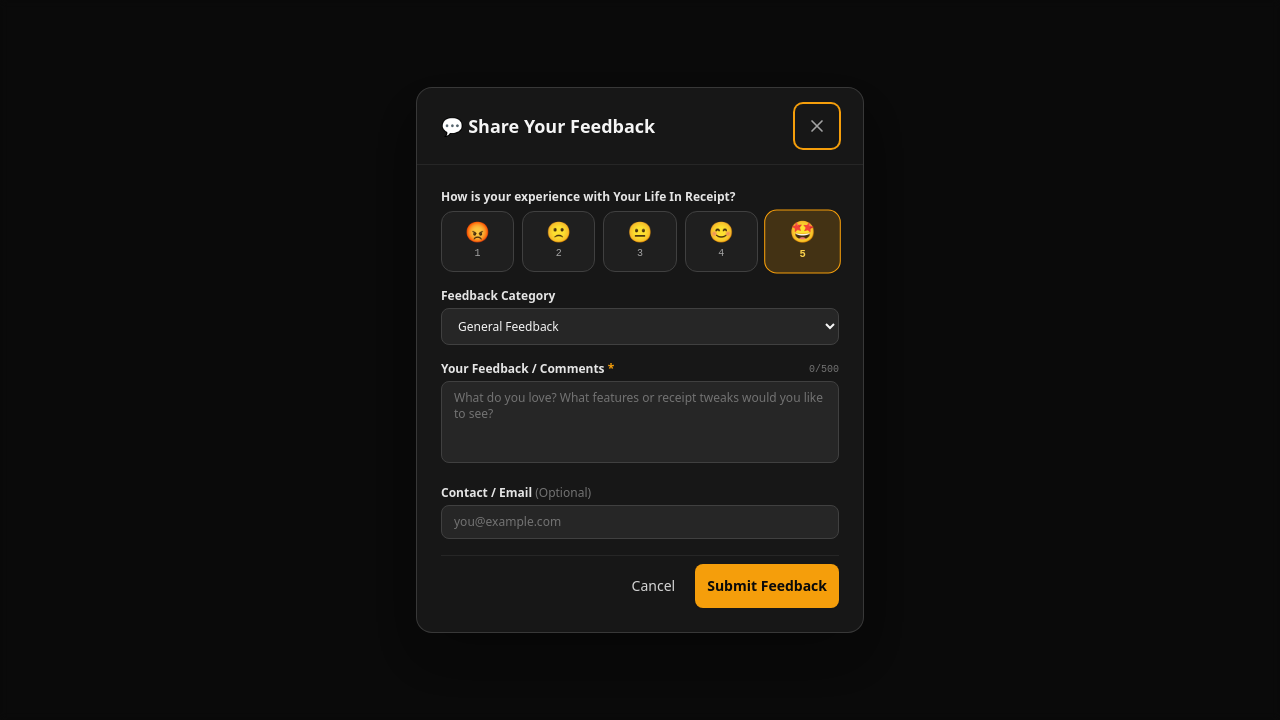
it: FeedbackModal Component & Storage › rejects submission with less than 5 characters and displays error
Replace the text in the text box labelled "Your Feedback / Comments *" with "Hi". click: coordinates (640, 422)
box: [441,381,839,463]
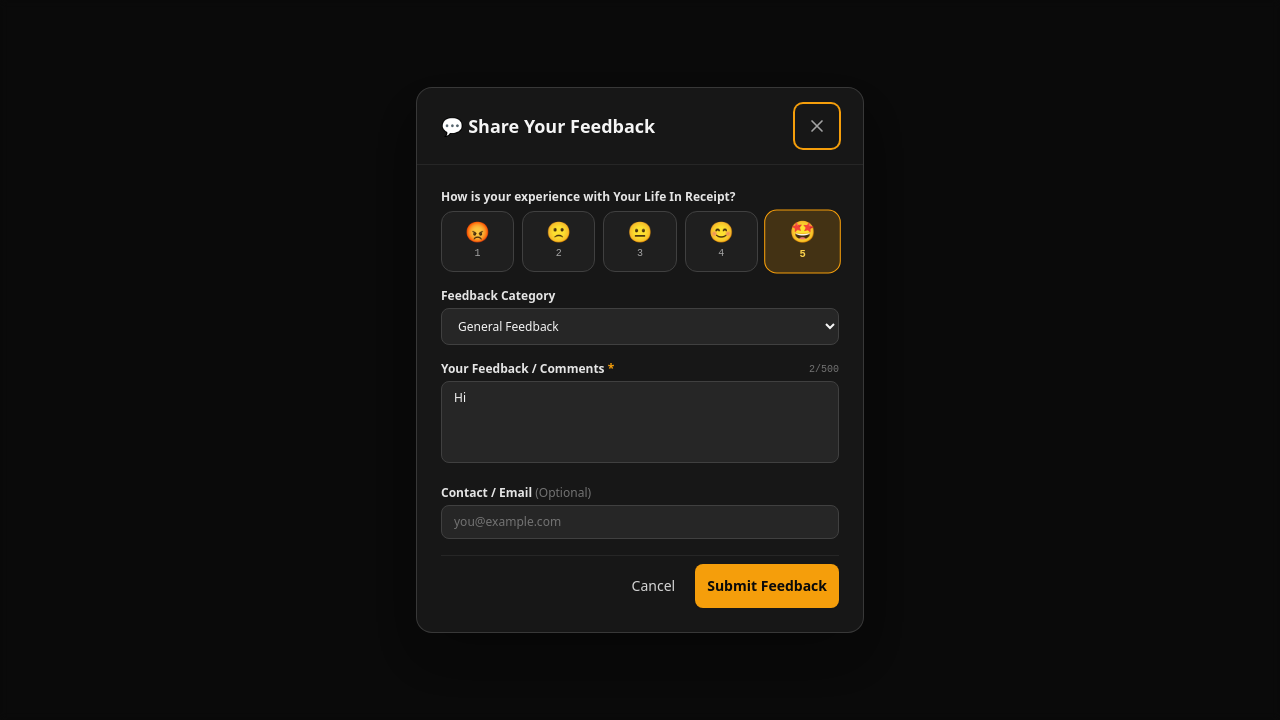
Click the button "Submit Feedback". click: coordinates (767, 586)
box: [695,564,839,608]
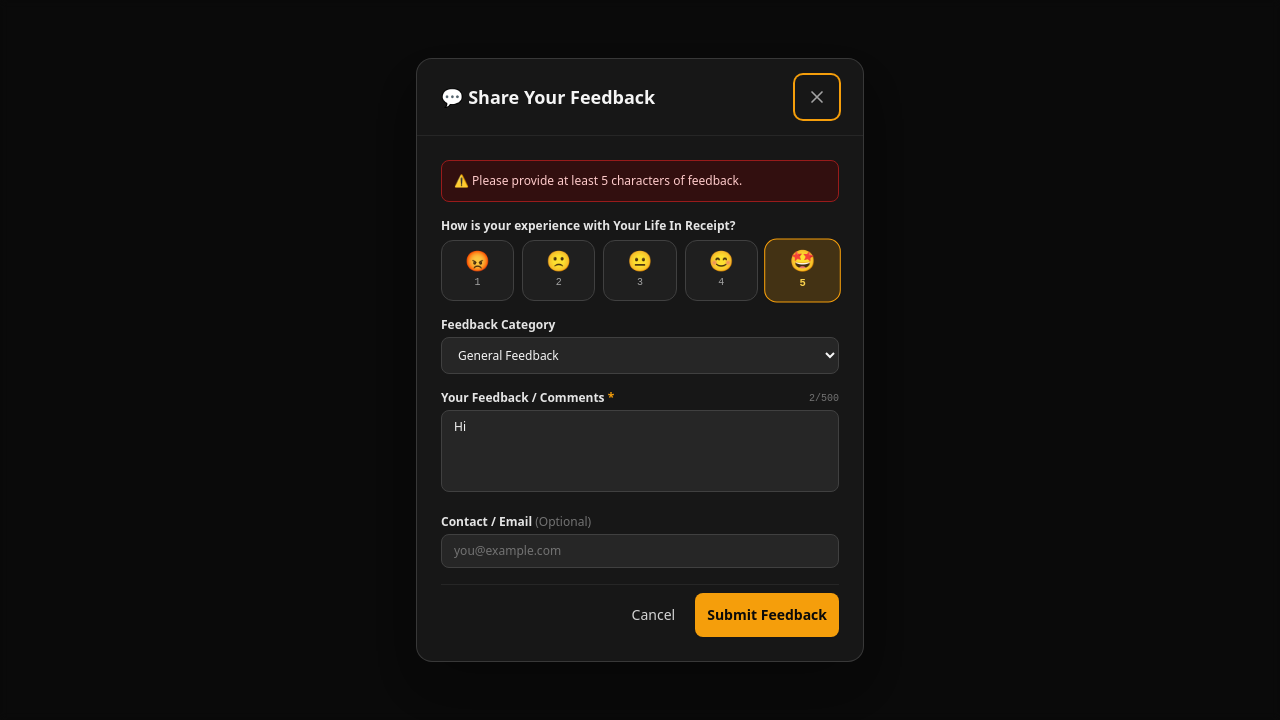
expect the message shows "at least 5 characters": met, box [472,172,742,189]
